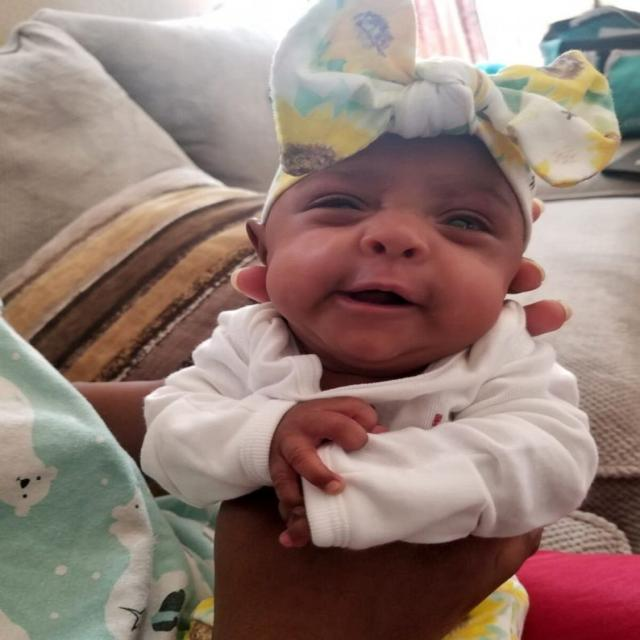non-dog: (136, 0, 622, 558)
